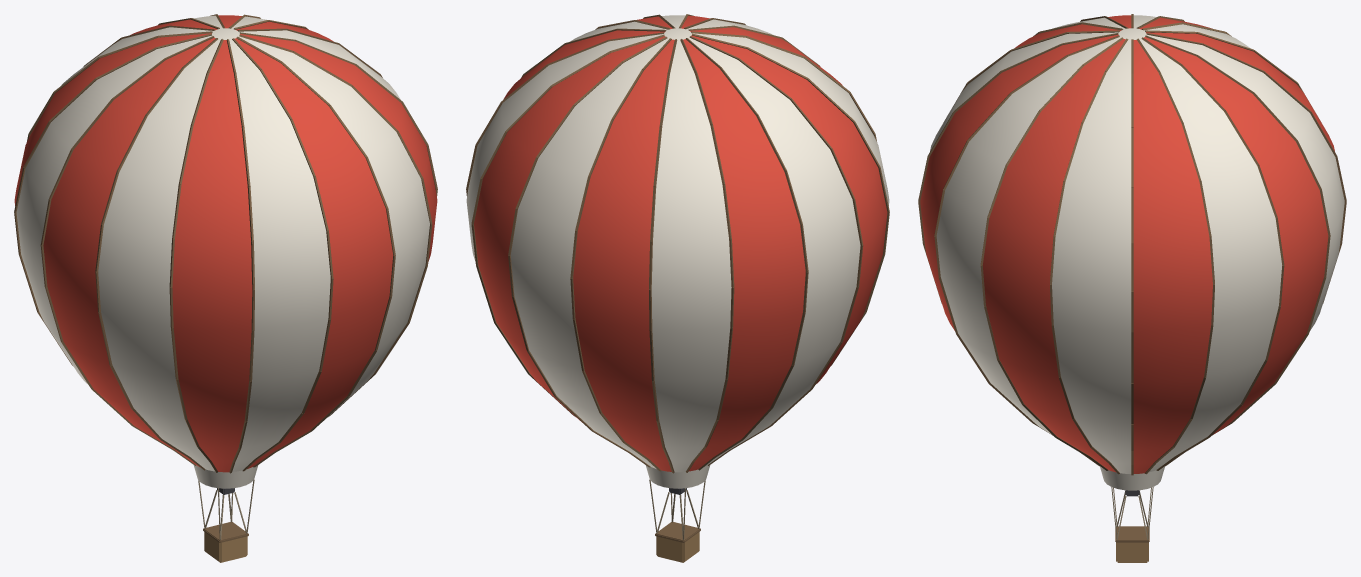
The model's file is balloon.glb.
The picture shows the model from 3 angles, left to right: view 1: azimuth 30°, elevation 25°; view 2: azimuth 150°, elevation 25°; view 3: azimuth 270°, elevation 25°; orthographic projection.
Visible parts, largest first — view 1: balloon_mesh; view 2: balloon_mesh; view 3: balloon_mesh.
Boxes of the visible parts, <box> form: balloon_mesh: <box>14,14,437,562</box>; balloon_mesh: <box>466,14,889,562</box>; balloon_mesh: <box>918,14,1346,562</box>.
Size of the model in its own units: 18.36 by 24.76 by 18.36.
